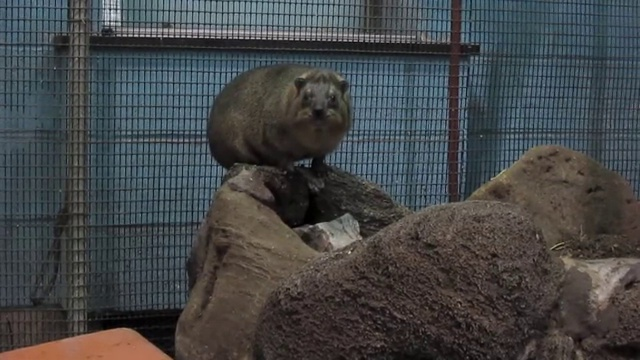Rock Hyrex: (204, 62, 354, 180)
